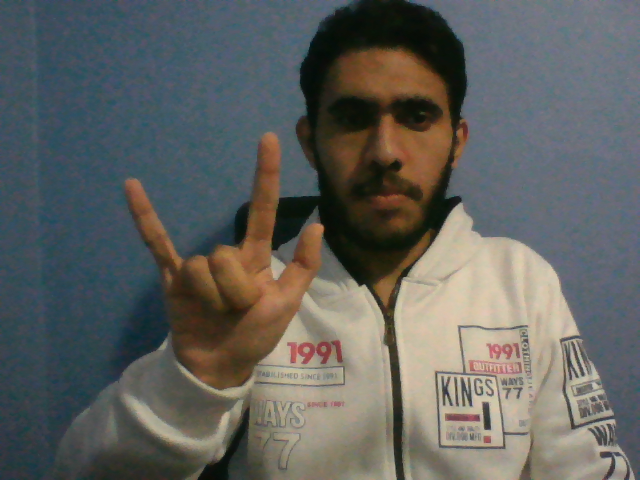iloveyou: (119, 130, 322, 392)
